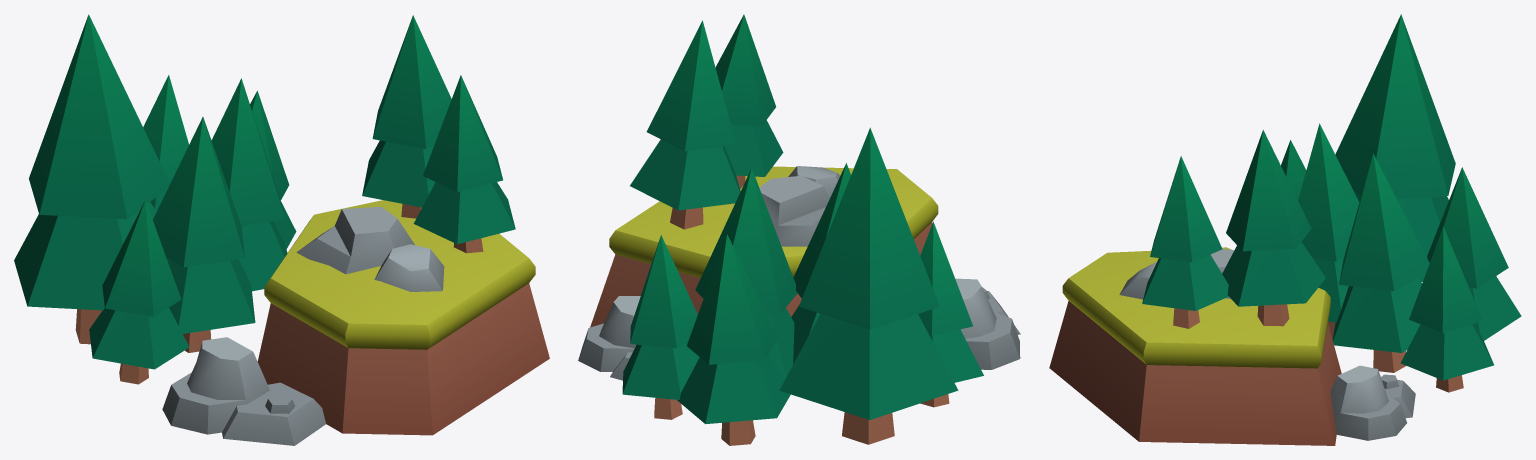
File: hills_C_trees.glb
3 views of the same model, side by side, from view 1: azimuth 30°, elevation 25°; view 2: azimuth 150°, elevation 25°; view 3: azimuth 270°, elevation 25° (orthographic). The views are drawn at different scales.
Visible parts, largest first — view 1: hills_C_trees; view 2: hills_C_trees; view 3: hills_C_trees.
Boxes of the visible parts, bbox=[...] form: hills_C_trees: bbox=[14, 14, 549, 445]; hills_C_trees: bbox=[578, 14, 1020, 445]; hills_C_trees: bbox=[1049, 14, 1521, 445].
Size of the model in its own units: 1.7 by 1.3 by 1.9.
1 material, 1 textured.
